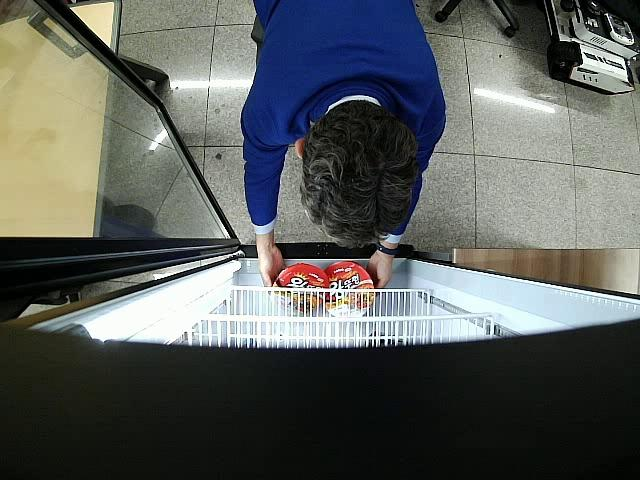00_hand: (257, 242, 288, 293), (366, 253, 393, 296)
10_wangTtukkeong: (269, 263, 330, 316), (325, 260, 375, 318)
